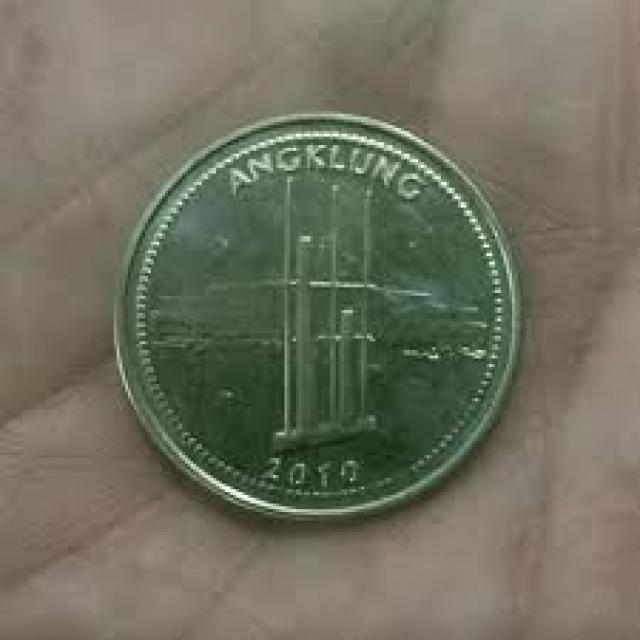coin_1000_e2010: (106, 104, 522, 530)
